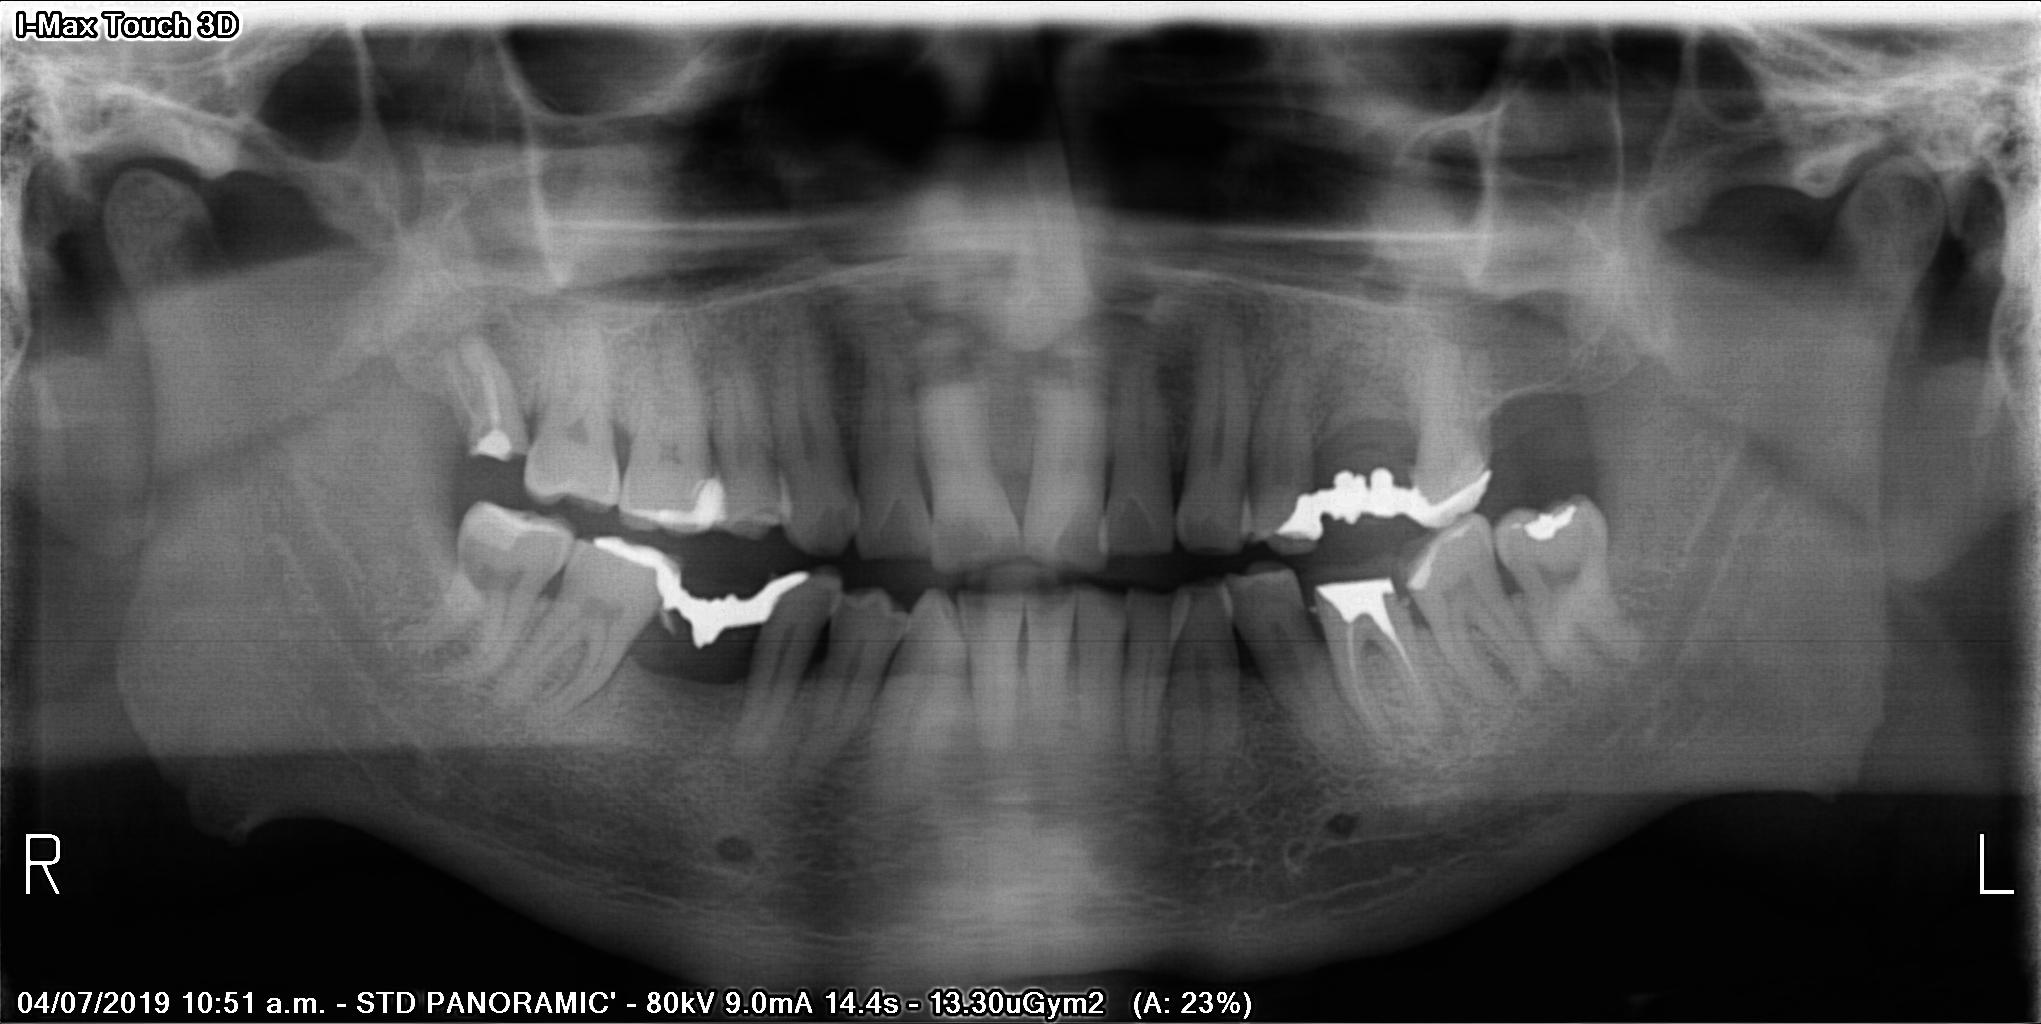Çürük: (584, 533, 689, 590), (1399, 474, 1500, 528), (645, 479, 735, 538), (454, 503, 554, 555), (752, 562, 819, 624), (1324, 571, 1395, 630), (1268, 498, 1331, 552), (1523, 495, 1580, 550), (464, 426, 521, 460), (1404, 564, 1457, 597)
Çürük Bölgesi: (1392, 541, 1460, 585)
